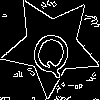Q: (26, 21, 79, 81)
